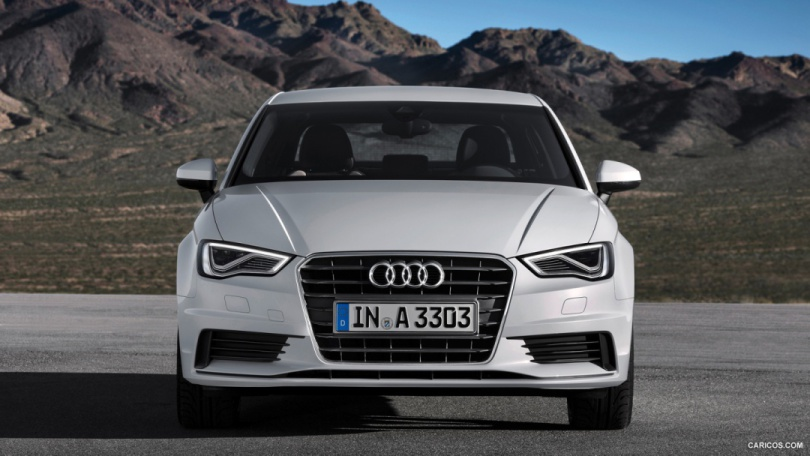audi: (359, 254, 449, 293)
